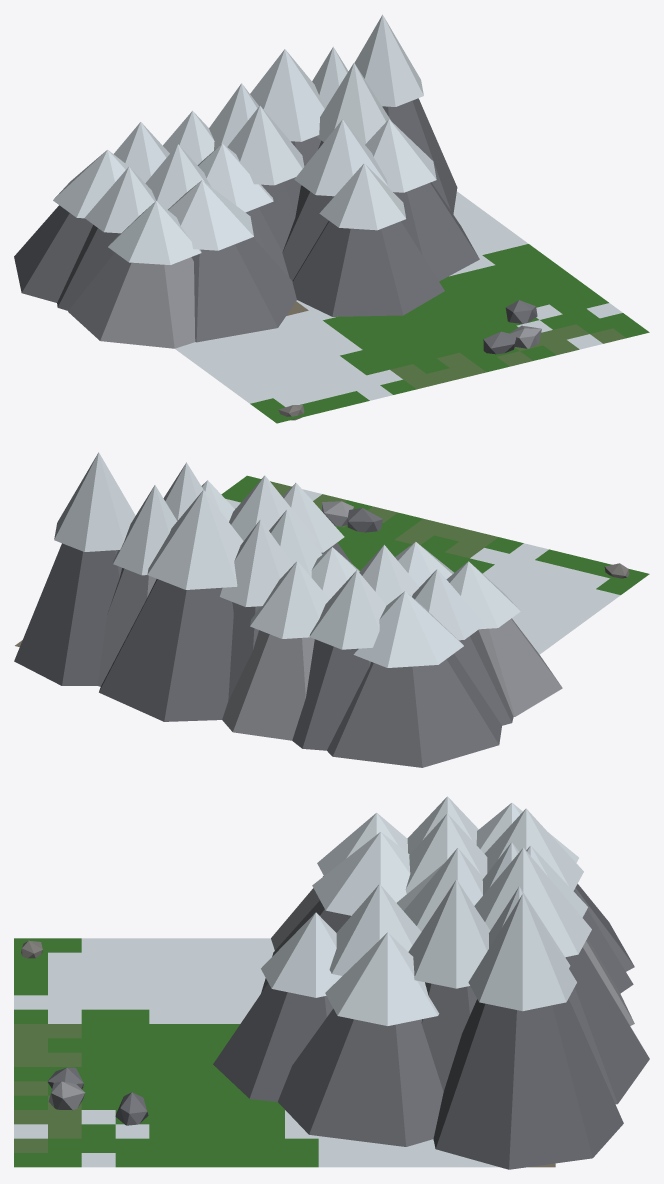
Rendered from chunk_7_1.glb.
The picture shows the model from 3 angles, top to bottom: view 1: azimuth 30°, elevation 25°; view 2: azimuth 150°, elevation 25°; view 3: azimuth 270°, elevation 25°; orthographic projection. The views are drawn at different scales.
Visible parts, largest first — view 1: chunk_7_1; view 2: chunk_7_1; view 3: chunk_7_1.
Boxes of the visible parts, box(x1,y1,x2,y2) form: chunk_7_1: box(14, 14, 649, 423); chunk_7_1: box(14, 452, 649, 767); chunk_7_1: box(14, 796, 649, 1169).
Bounding box in the file's own units: 18.66 × 8.11 × 18.78.
